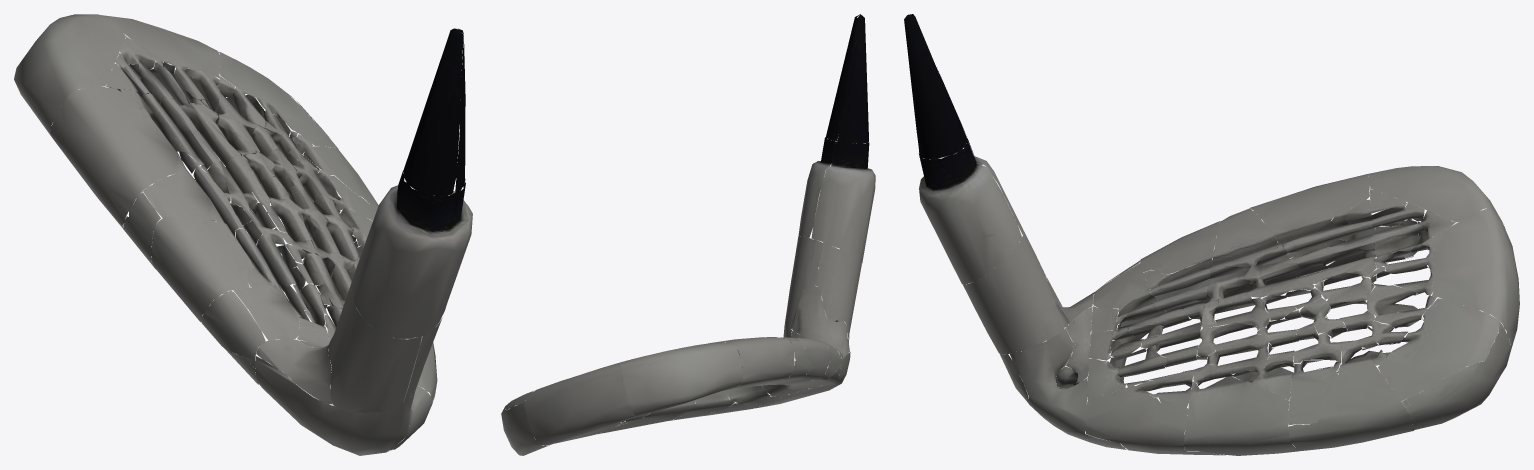
File: wedge.glb
3 views of the same model, side by side, from view 1: azimuth 30°, elevation 25°; view 2: azimuth 150°, elevation 25°; view 3: azimuth 270°, elevation 25° (orthographic). The views are drawn at different scales.
Parts seen in each view (by area): view 1: tripo_node_a836a2c3-0b47-4873-9476-1ded33709b97; view 2: tripo_node_a836a2c3-0b47-4873-9476-1ded33709b97; view 3: tripo_node_a836a2c3-0b47-4873-9476-1ded33709b97.
Boxes of the visible parts, x1=… form: tripo_node_a836a2c3-0b47-4873-9476-1ded33709b97: x1=14, y1=14, x2=472, y2=455; tripo_node_a836a2c3-0b47-4873-9476-1ded33709b97: x1=501, y1=14, x2=875, y2=455; tripo_node_a836a2c3-0b47-4873-9476-1ded33709b97: x1=904, y1=14, x2=1519, y2=455.
Bounding box in the file's own units: 0.4737 × 0.7268 × 1.
1 material, 1 textured.
